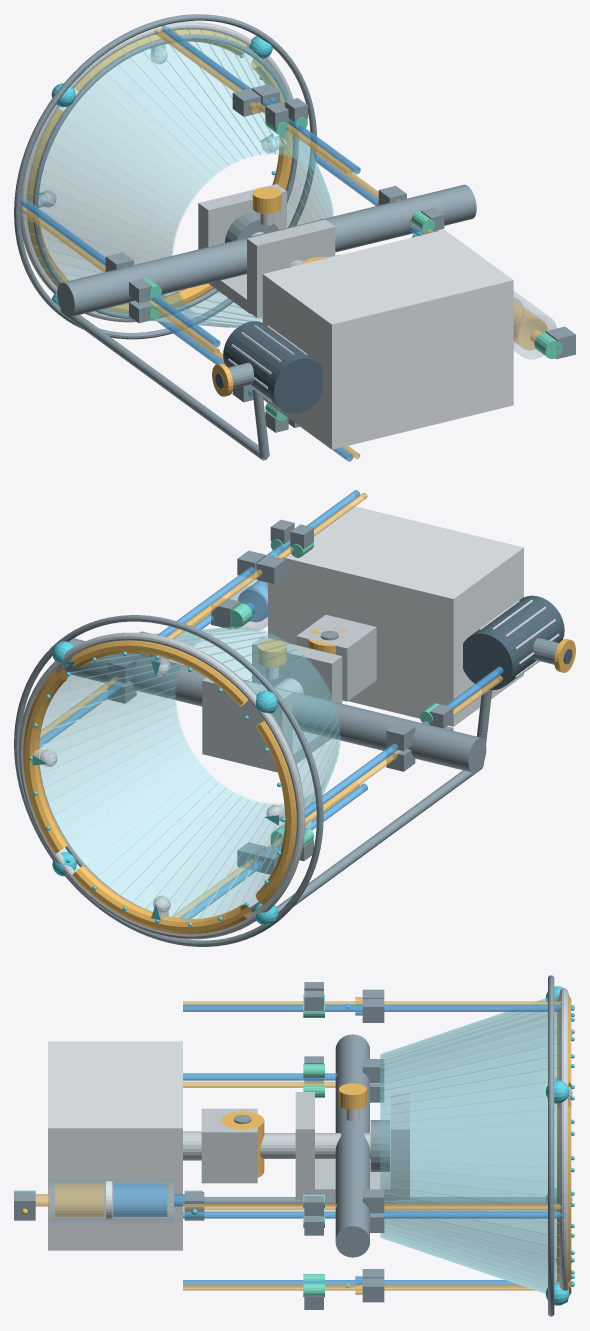
The model's file is CAGE-Loop-concept.glb.
3 views of the same model, one above another, from view 1: azimuth 30°, elevation 25°; view 2: azimuth 150°, elevation 25°; view 3: azimuth 270°, elevation 25° (orthographic). The views are drawn at different scales.
Parts seen in each view (by area): view 1: hood components, body components, steel components, metal components, amber components, dark components, water components, pressurant components, flow components, tank_shell components, mist components, cyan components; view 2: hood components, body components, steel components, metal components, amber components, water components, dark components, pressurant components, cyan components, flow components, mist components, tank_shell components; view 3: hood components, body components, steel components, metal components, water components, pressurant components, tank_shell components, amber components, flow components, cyan components.
Boxes of the visible parts, x1,y1,x2,y2 form: hood components: [26, 28, 333, 327]; body components: [262, 229, 513, 449]; steel components: [14, 14, 575, 460]; metal components: [20, 21, 340, 409]; amber components: [27, 29, 328, 396]; dark components: [215, 321, 322, 413]; water components: [21, 25, 425, 461]; pressurant components: [20, 28, 547, 459]; flow components: [143, 117, 562, 421]; tank_shell components: [514, 291, 556, 359]; mist components: [38, 44, 286, 298]; cyan components: [39, 36, 275, 306]; hood components: [39, 626, 340, 918]; body components: [268, 504, 523, 726]; steel components: [14, 519, 559, 946]; metal components: [18, 599, 559, 939]; amber components: [23, 627, 575, 934]; water components: [39, 490, 503, 918]; dark components: [463, 595, 572, 690]; pressurant components: [40, 492, 502, 917]; cyan components: [29, 554, 285, 926]; flow components: [144, 539, 438, 846]; mist components: [31, 654, 286, 921]; tank_shell components: [229, 579, 267, 631]; hood components: [380, 994, 559, 1293]; body components: [48, 1041, 182, 1250]; steel components: [14, 975, 554, 1316]; metal components: [183, 988, 568, 1303]; water components: [113, 1004, 563, 1287]; pressurant components: [35, 997, 562, 1294]; tank_shell components: [49, 1177, 173, 1223]; amber components: [21, 995, 571, 1295]; flow components: [14, 994, 324, 1297]; cyan components: [191, 986, 574, 1305].
Size of the model in its own units: 0.42 by 0.3192 by 0.52.
